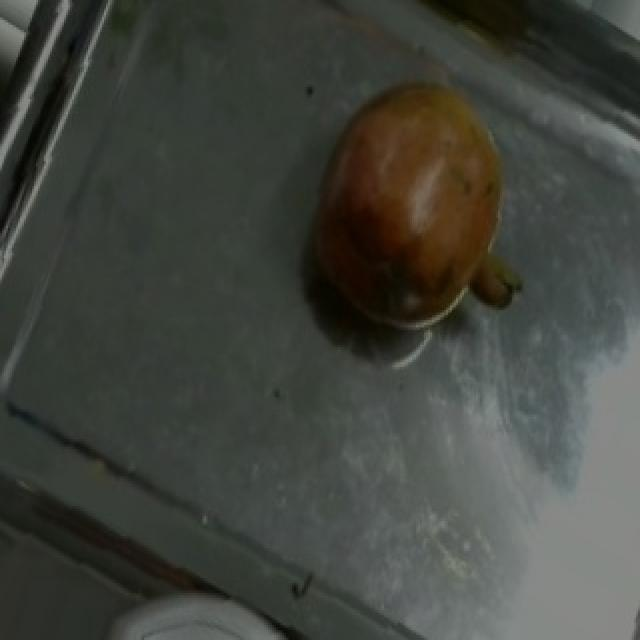fruit: (284, 49, 540, 344)
